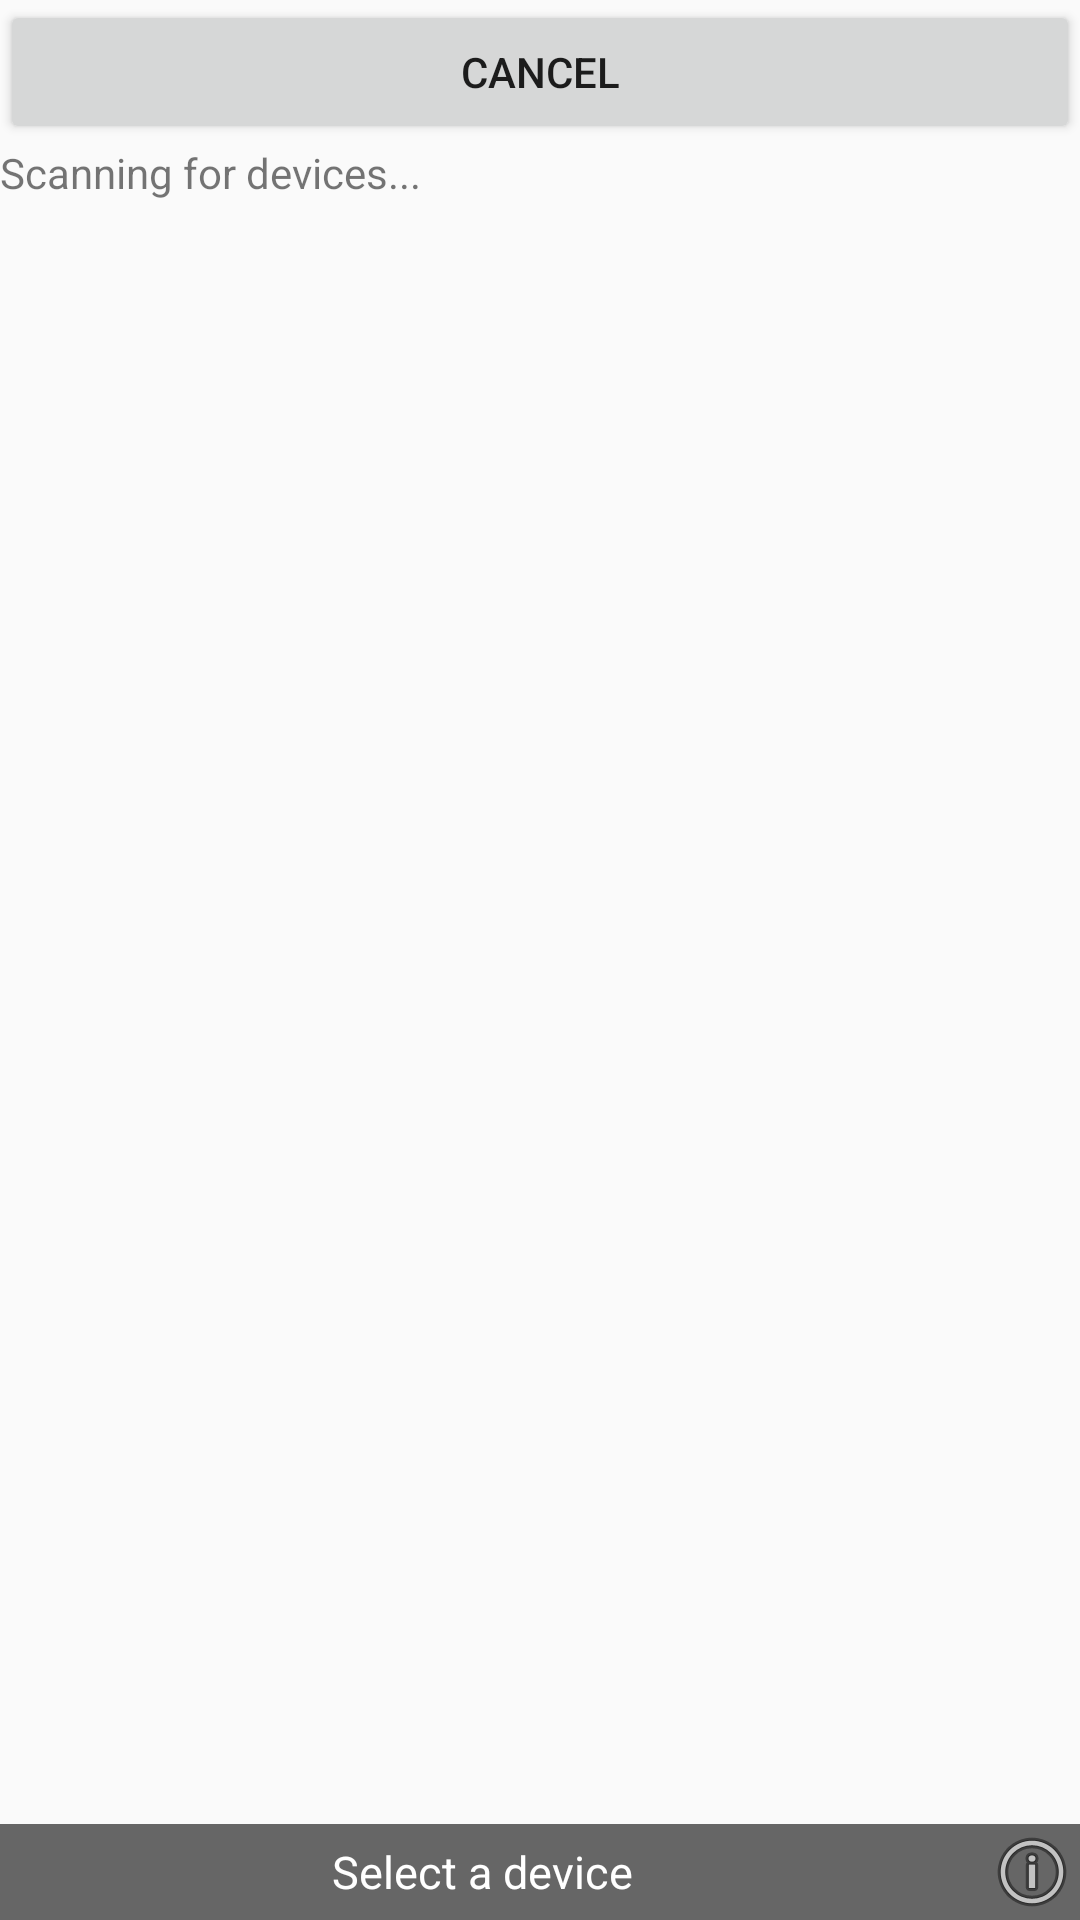

Where icons sit on this 1080px x 1920px app screen, as (x1, y1, x2, y2):
info details: (998, 1838, 1066, 1906)
